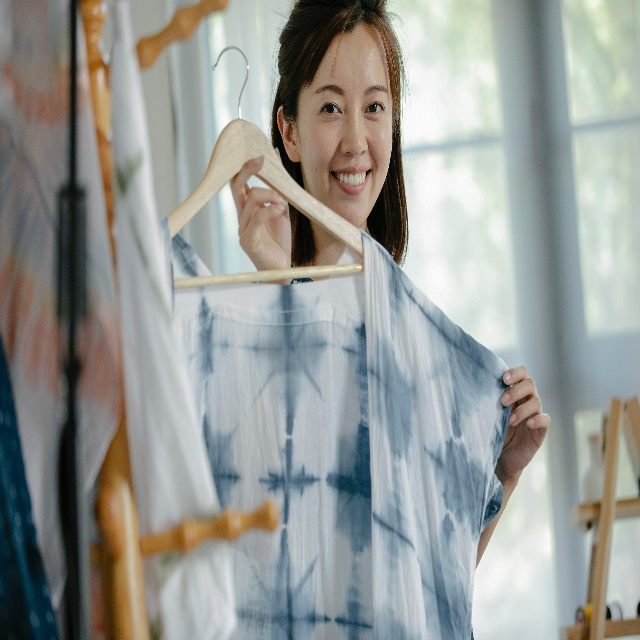Sin_guantes: (228, 151, 292, 286), (497, 361, 551, 482)
